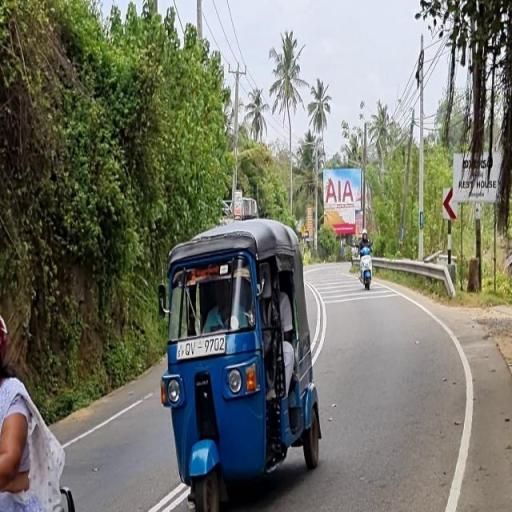double_white_line: (149, 480, 190, 512)
